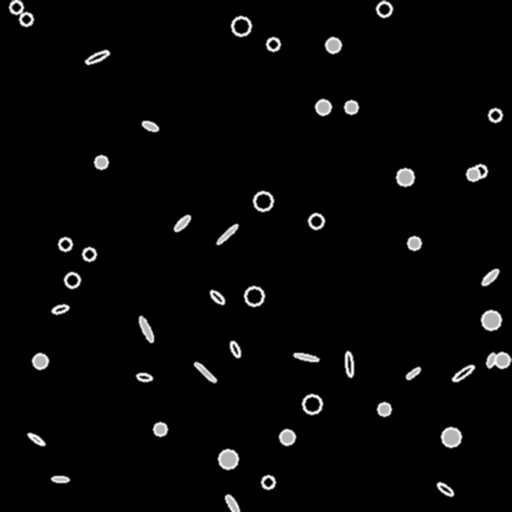pseudomonas: (215, 223, 239, 245), (193, 361, 217, 383), (451, 363, 475, 383), (137, 316, 155, 342), (84, 49, 110, 65), (172, 213, 192, 233), (480, 267, 500, 287), (435, 481, 455, 497), (224, 494, 240, 512), (209, 289, 225, 305), (27, 432, 45, 446), (294, 352, 318, 362), (405, 366, 421, 380), (141, 120, 159, 132), (229, 340, 241, 358), (485, 352, 497, 368), (345, 352, 353, 376), (51, 304, 69, 314), (136, 372, 152, 382), (51, 476, 69, 482)
synechocystis: (245, 287, 263, 305), (442, 428, 460, 446), (303, 395, 321, 413), (219, 450, 237, 468), (482, 311, 500, 329), (254, 192, 272, 210), (232, 17, 250, 35), (397, 169, 413, 185), (316, 100, 330, 114), (280, 430, 294, 444), (377, 2, 391, 16), (495, 353, 509, 367), (309, 214, 323, 228), (65, 273, 79, 287), (33, 354, 47, 368), (326, 38, 340, 52), (474, 165, 486, 177), (10, 1, 22, 13), (267, 38, 279, 50), (408, 237, 420, 249), (59, 238, 71, 250), (20, 13, 32, 25), (154, 423, 166, 435), (262, 476, 274, 488), (345, 101, 357, 113), (489, 109, 501, 121), (95, 156, 107, 168), (378, 403, 390, 415), (467, 168, 479, 180), (83, 248, 95, 260)
